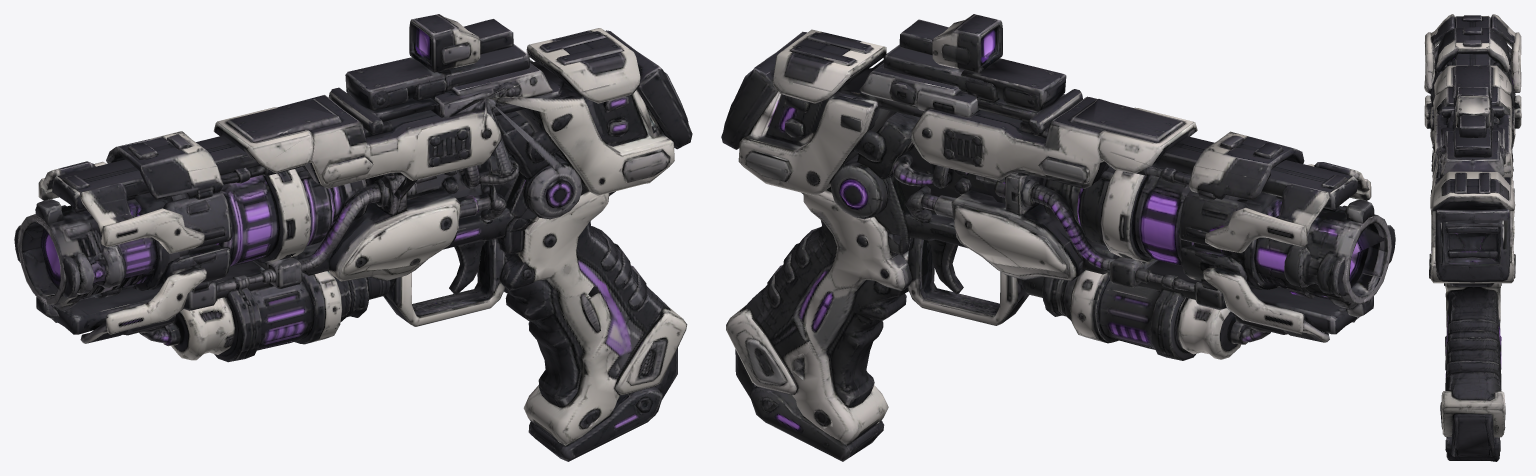
Rendered from Graviton_Pistol.glb.
The picture shows the model from 3 angles, left to right: view 1: azimuth 30°, elevation 25°; view 2: azimuth 150°, elevation 25°; view 3: azimuth 270°, elevation 25°; orthographic projection. The views are drawn at different scales.
Parts seen in each view (by area): view 1: mesh_node; view 2: mesh_node; view 3: mesh_node.
Boxes of the visible parts, x1,y1,x2,y2 form: mesh_node: (14,14,692,461); mesh_node: (721,14,1395,461); mesh_node: (1424,14,1521,461).
Bounding box in the file's own units: 1 × 0.6973 × 0.1934.
1 material, 1 textured.
